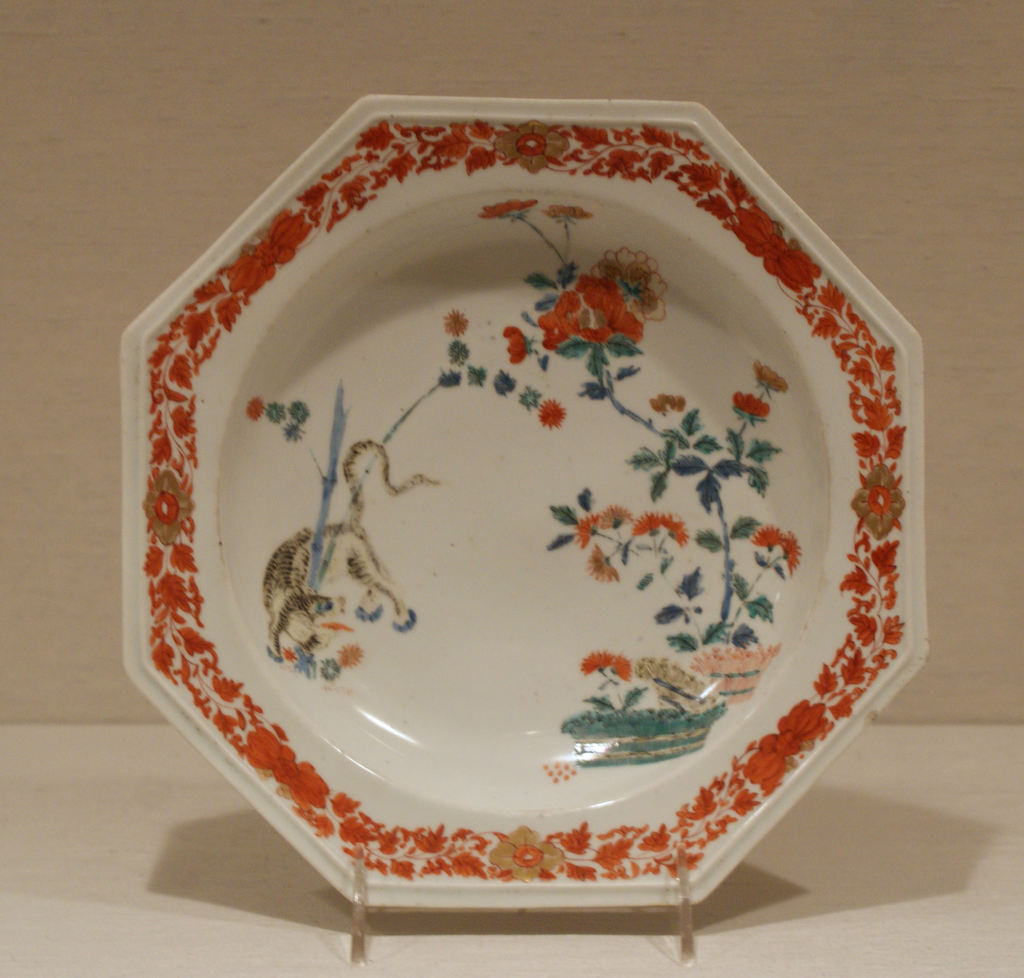plate: (117, 93, 930, 909)
